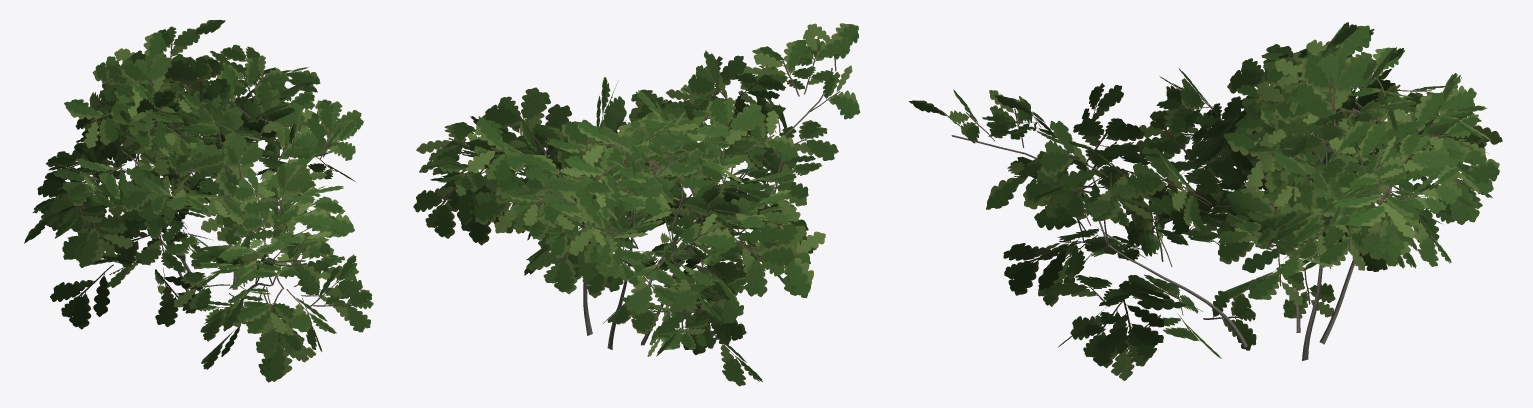
Rendered from bush_00.glb.
3 renders of one model, left to right at view 1: azimuth 30°, elevation 25°; view 2: azimuth 150°, elevation 25°; view 3: azimuth 270°, elevation 25°, orthographic. The views are drawn at different scales.
Parts seen in each view (by area): view 1: gambel_oak_LOD0; view 2: gambel_oak_LOD0; view 3: gambel_oak_LOD0.
Boxes of the visible parts, x1,y1,x2,y2 form: gambel_oak_LOD0: (24, 19, 373, 382); gambel_oak_LOD0: (413, 23, 860, 386); gambel_oak_LOD0: (909, 22, 1502, 380).
Bounding box in the file's own units: 1.18 × 0.948 × 1.55.
Materials: 2 (2 with a texture image).
